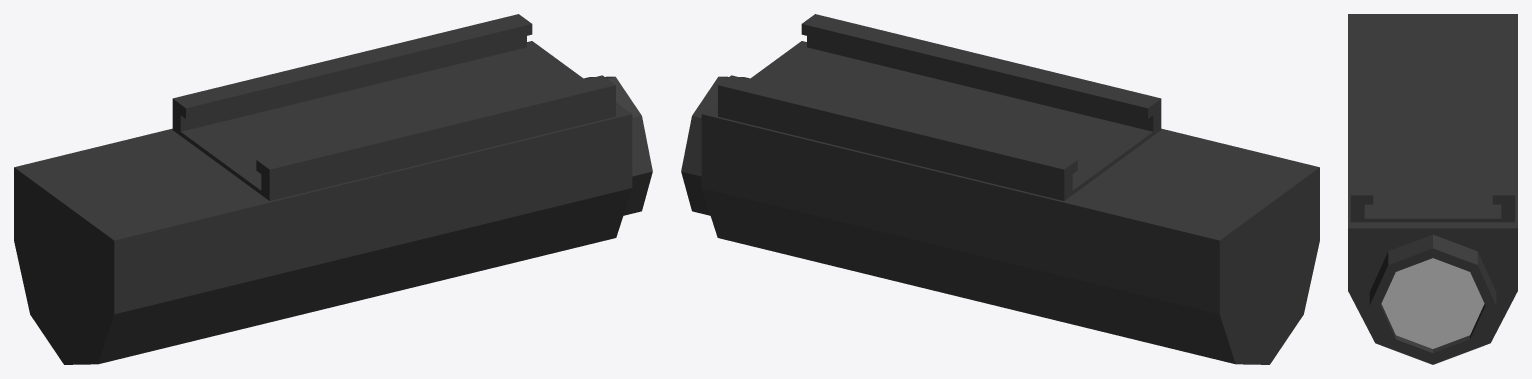
File: Light_01.fbx
The picture shows the model from 3 angles, left to right: view 1: azimuth 30°, elevation 25°; view 2: azimuth 150°, elevation 25°; view 3: azimuth 270°, elevation 25°; orthographic projection. The views are drawn at different scales.
Visible parts, largest first — view 1: Light_01; view 2: Light_01; view 3: Light_01.
Boxes of the visible parts, x1,y1,x2,y2 form: Light_01: (14, 14, 652, 364); Light_01: (681, 14, 1319, 364); Light_01: (1348, 14, 1517, 364).
Bounding box in the file's own units: 0.0837 × 0.0279 × 0.0263.
